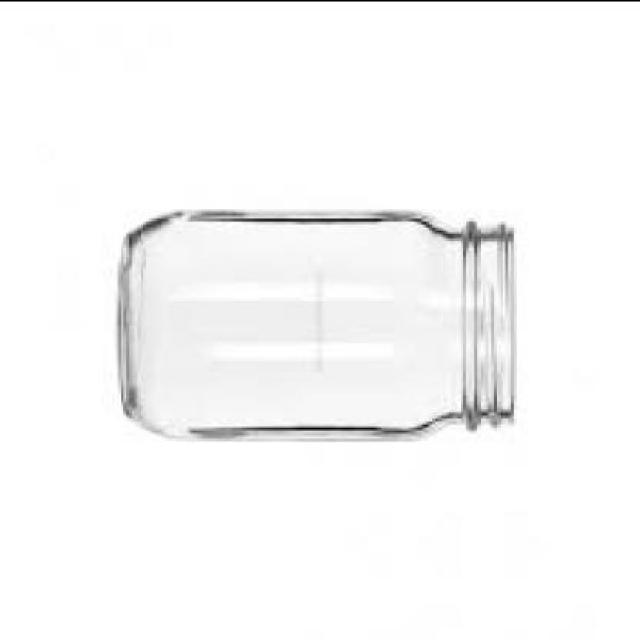GLASS: (120, 209, 517, 440)
